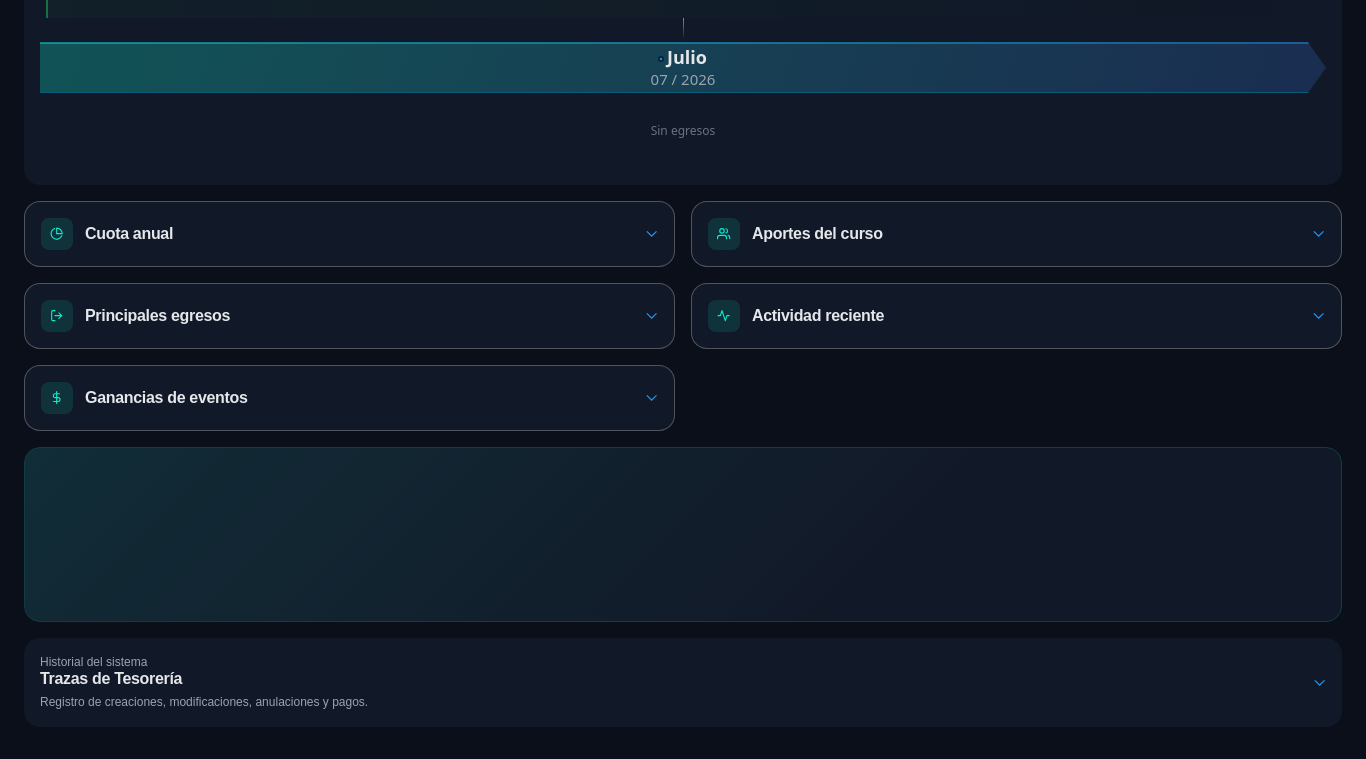
Test: DashboardPage › pagina cinco trazas por página
The image size is (1366, 759).
(page scrolled)
Expected: the text "Traza 6" is not shown
Click the button "Historial del sistema Trazas de Tesorería" at (94, 662), box [40,654,1326,711]
(page scrolled)
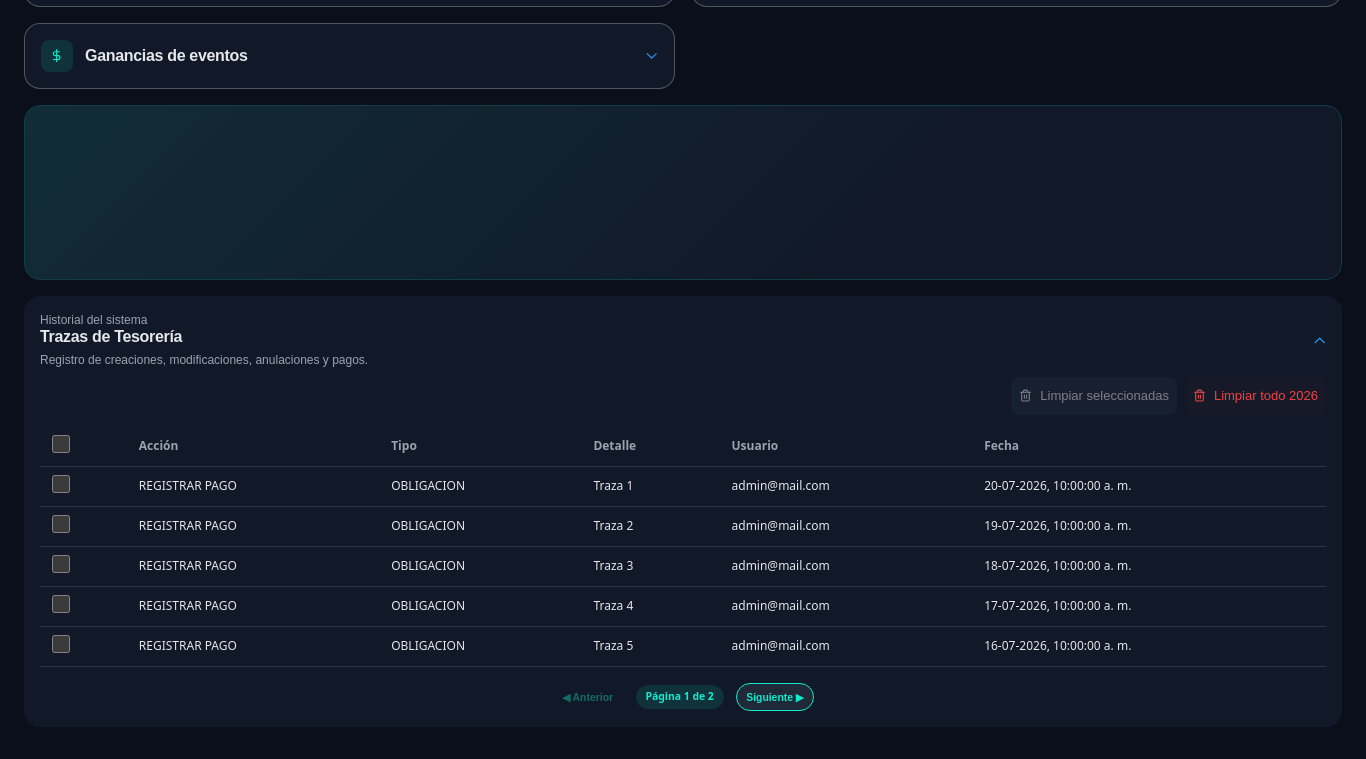
Click the button "Siguiente ▶" at (775, 697), box [736,683,814,711]
(page scrolled)
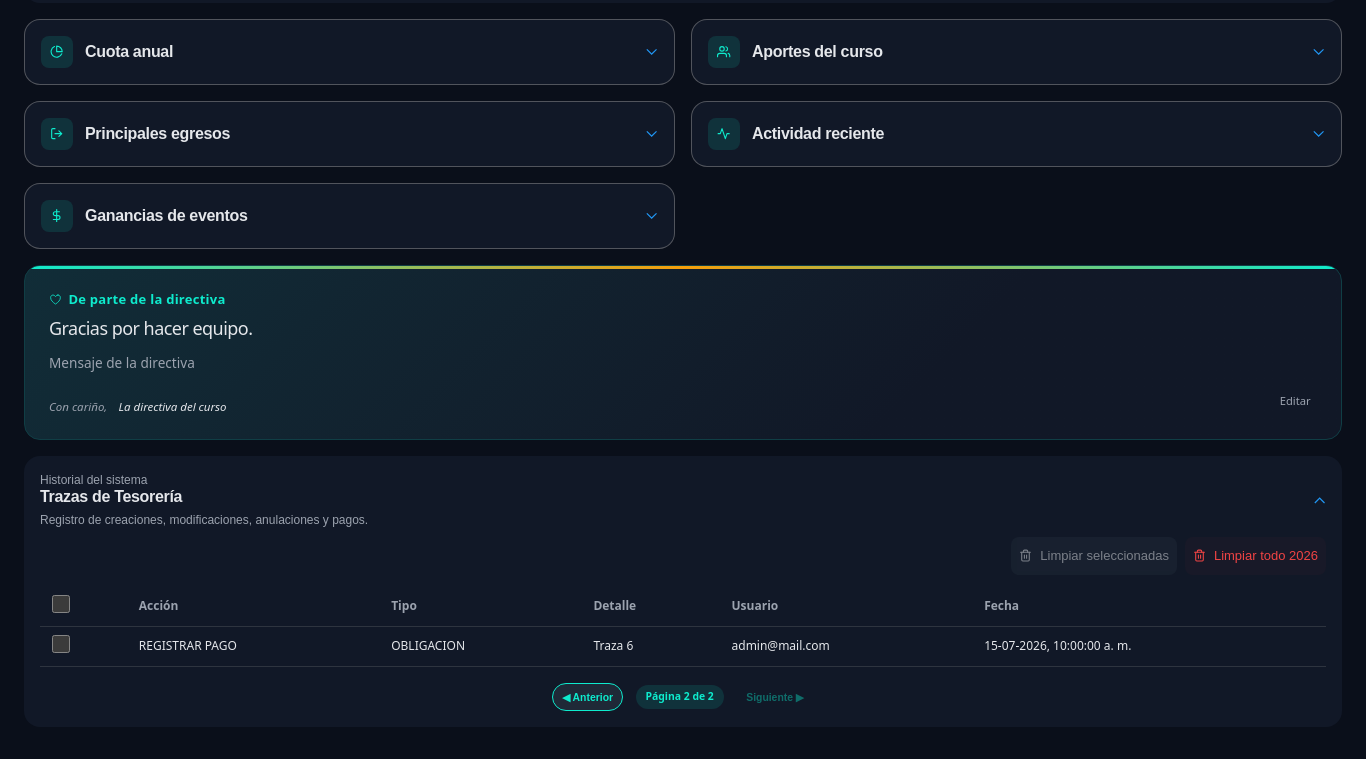
Expected: the text "Traza 6" is shown, [581,626,720,666]
Expected: the text "Página 2 de 2" is shown, [636,685,724,709]
